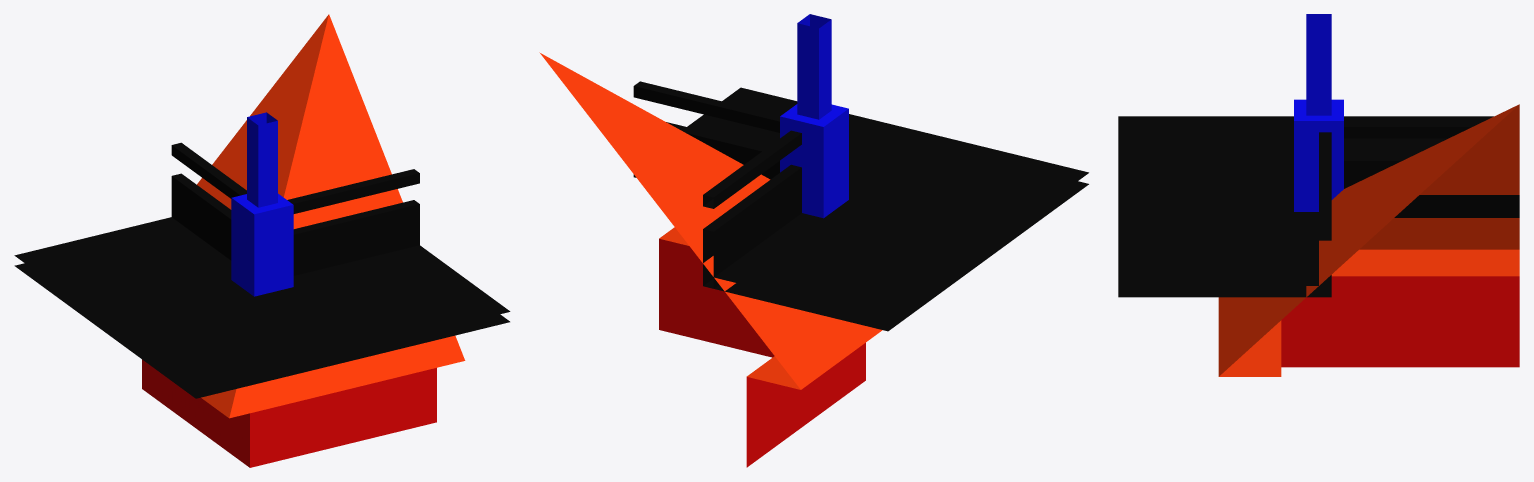
The model's file is None_S_P_E_E_P_P_E_E_BigStrut.fbx.
The picture shows the model from 3 angles, left to right: view 1: azimuth 30°, elevation 25°; view 2: azimuth 150°, elevation 25°; view 3: azimuth 270°, elevation 25°; orthographic projection. The views are drawn at different scales.
Parts seen in each view (by area): view 1: None_S_P_E_E_P_P_E_E_BigStrut; view 2: None_S_P_E_E_P_P_E_E_BigStrut; view 3: None_S_P_E_E_P_P_E_E_BigStrut.
Part boxes in pixels (x1,y1,x2,y2): None_S_P_E_E_P_P_E_E_BigStrut: [14, 14, 510, 467]; None_S_P_E_E_P_P_E_E_BigStrut: [539, 14, 1088, 467]; None_S_P_E_E_P_P_E_E_BigStrut: [1118, 14, 1519, 376].
Bounding box in the file's own units: 100 × 100 × 100.
